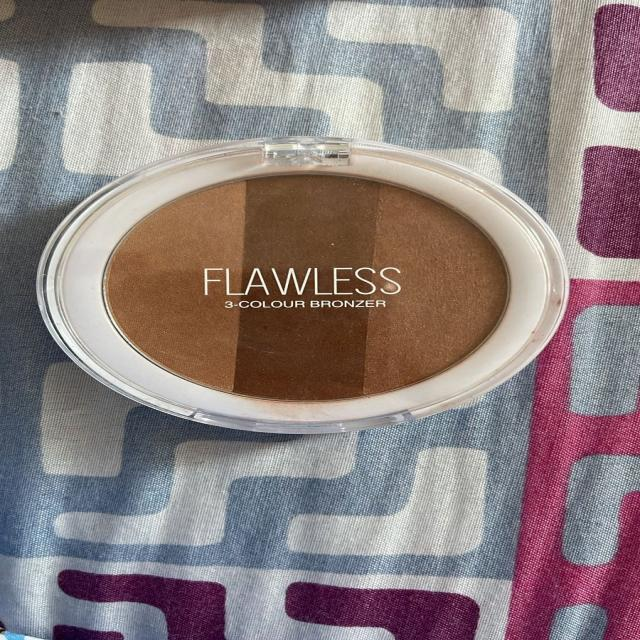bronzer: (55, 119, 593, 440)
